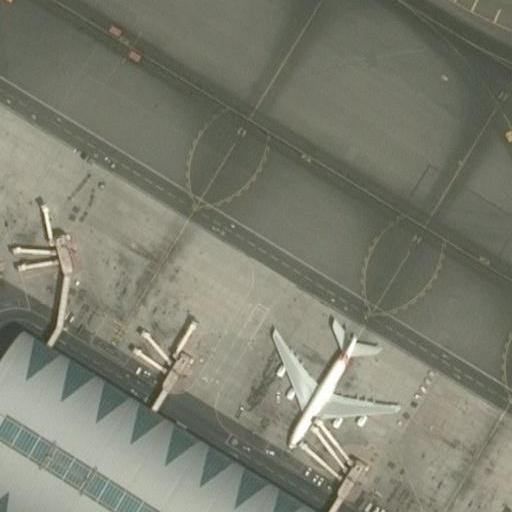Aircraft: (262, 316, 393, 456)
